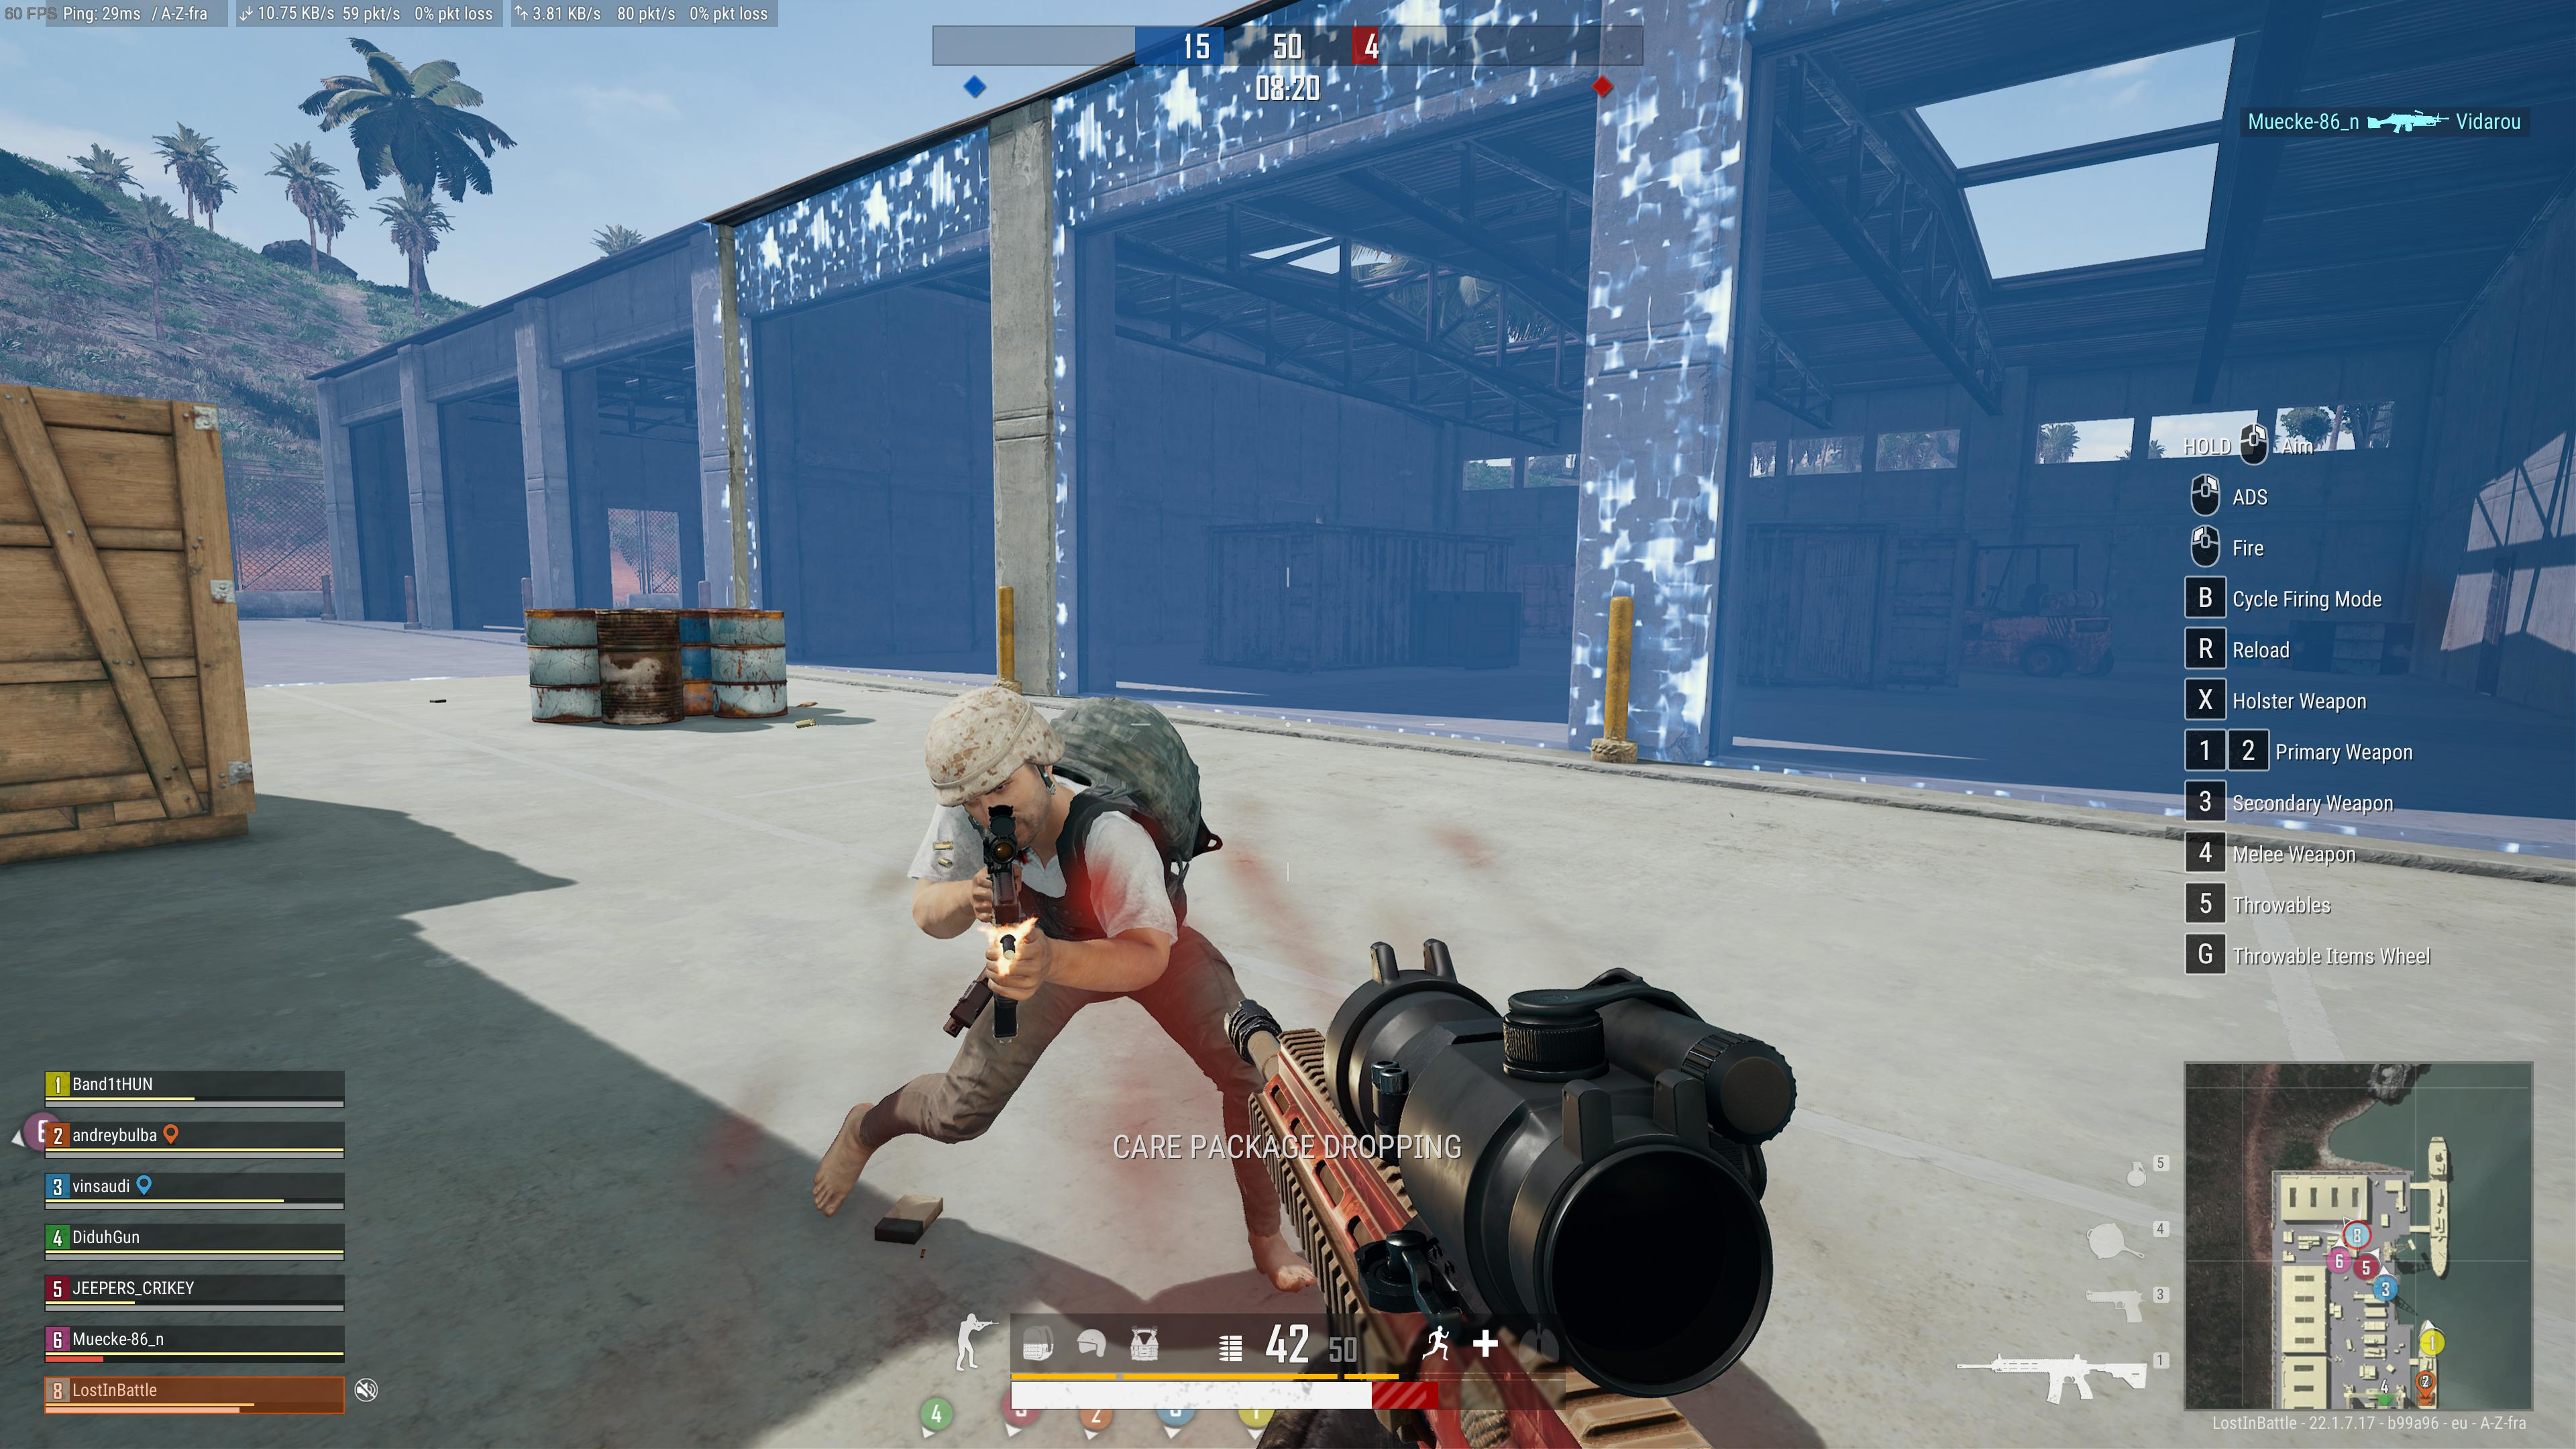enemy: (809, 683, 1320, 1290)
enemy_head: (922, 681, 1065, 862)
